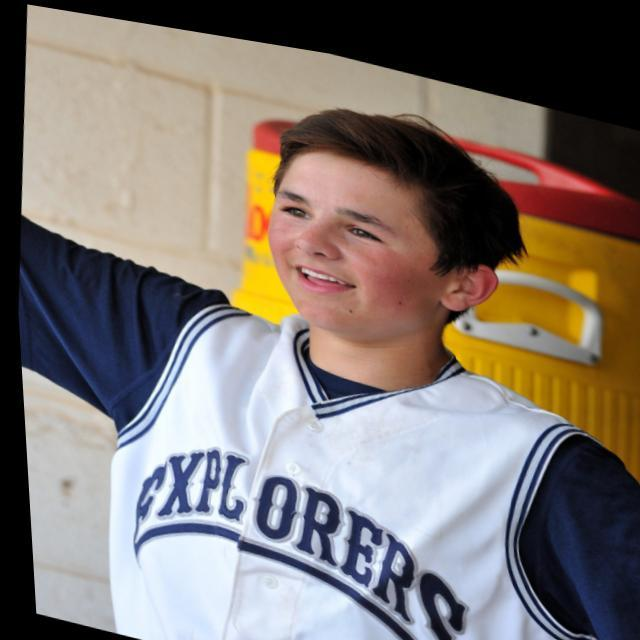Nonhelmet: (262, 104, 530, 344)
